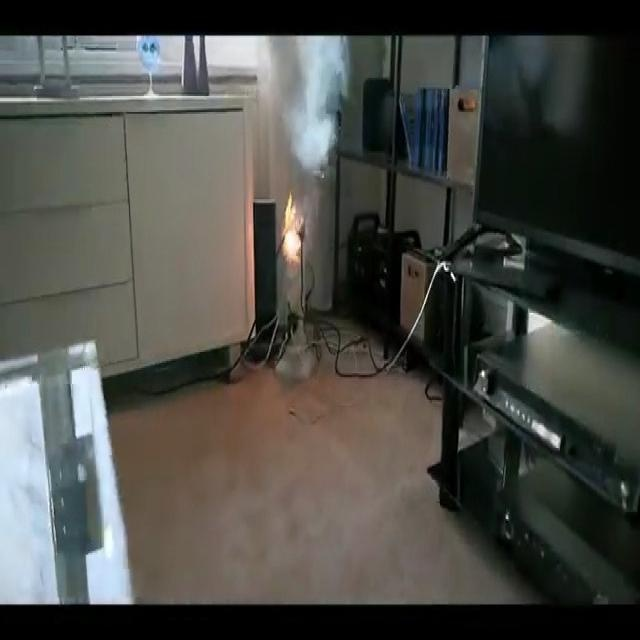smoke: (264, 39, 353, 185)
